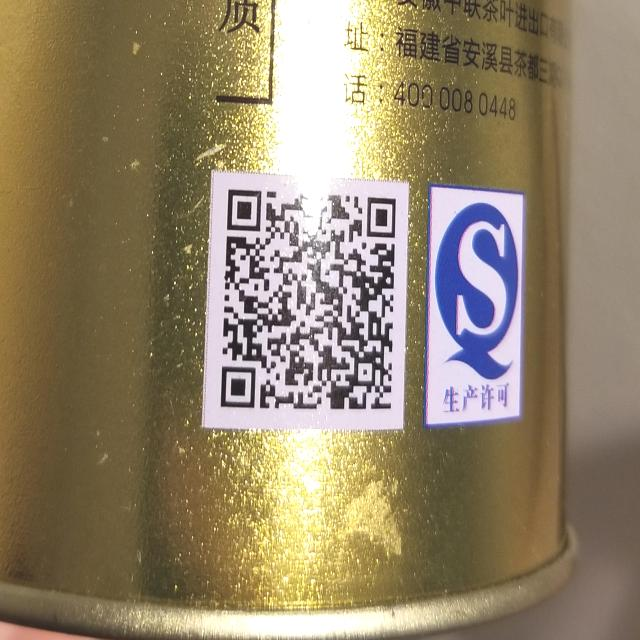QRCode: (211, 167, 404, 423)
